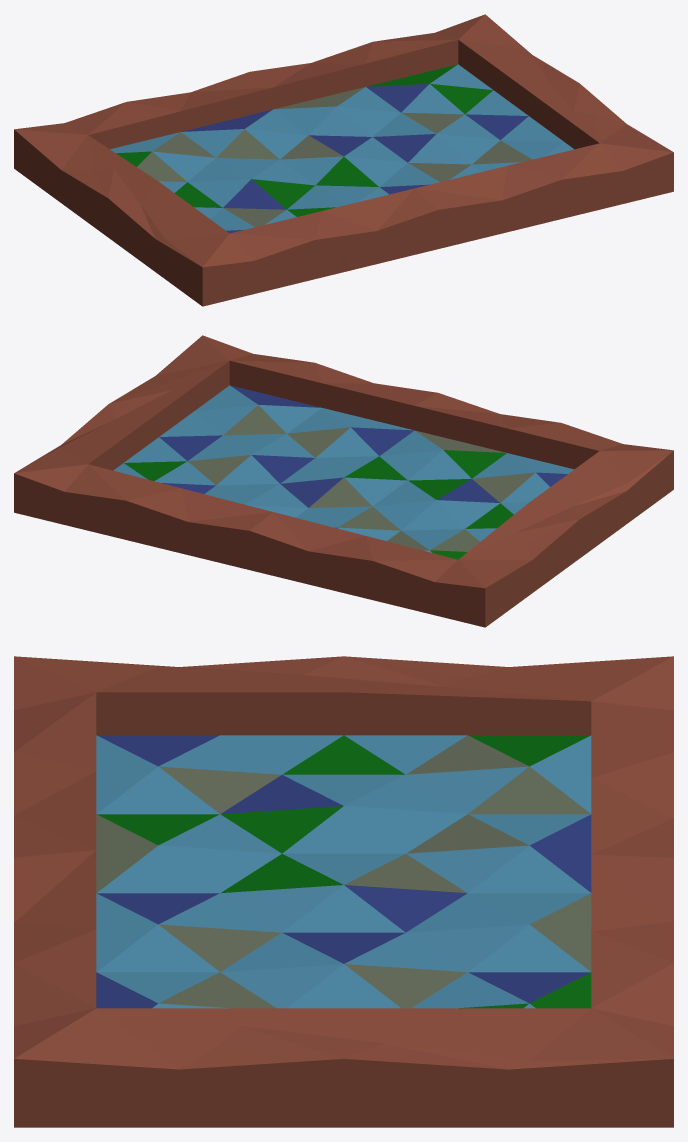
Rendered from item_pictureframe.fbx.
The picture shows the model from 3 angles, top to bottom: view 1: azimuth 30°, elevation 25°; view 2: azimuth 150°, elevation 25°; view 3: azimuth 270°, elevation 25°; orthographic projection. The views are drawn at different scales.
Parts seen in each view (by area): view 1: item_pictureframe; view 2: item_pictureframe; view 3: item_pictureframe.
Boxes of the visible parts, x1=… form: item_pictureframe: x1=14, y1=14, x2=673, y2=306; item_pictureframe: x1=14, y1=335, x2=673, y2=627; item_pictureframe: x1=14, y1=656, x2=673, y2=1127.
Bounding box in the file's own units: 28.5 × 2.51 × 19.75.
